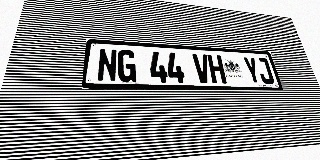4: (149, 51, 168, 83), (166, 52, 185, 83)
G: (117, 49, 136, 82)
H: (207, 55, 227, 84)
J: (255, 57, 275, 84)
N: (97, 48, 117, 82)
V: (192, 54, 212, 83)
Y: (242, 57, 262, 84)
